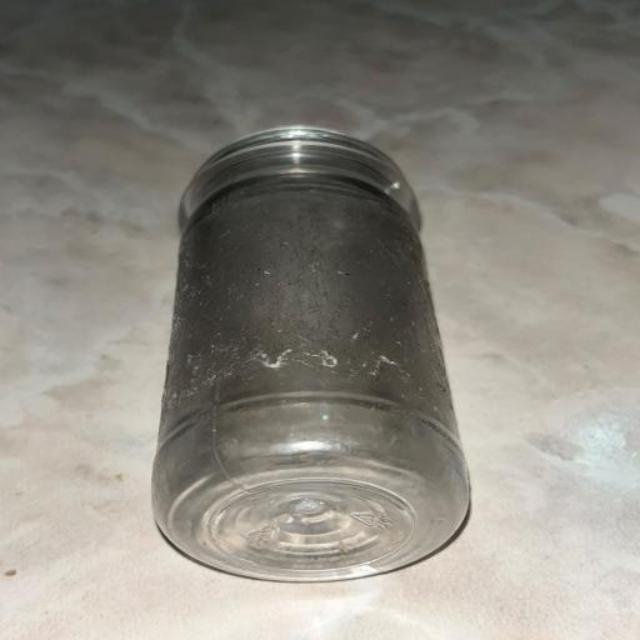PET: (71, 102, 555, 576)
